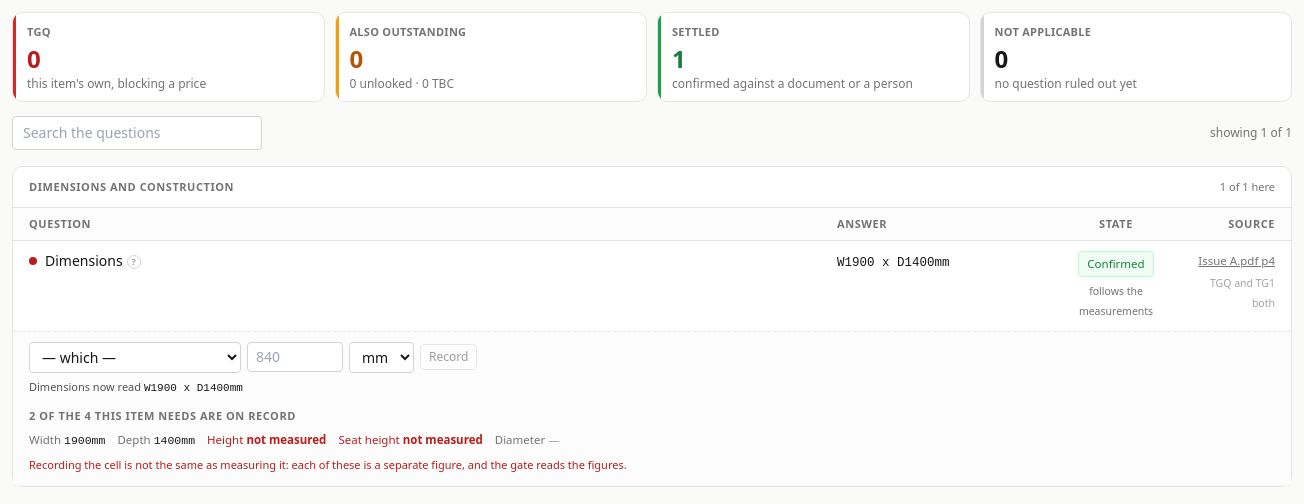
Test case: the checklist's Dimensions row › disables itself while the write is in flight, so one slot is not posted twice
This screenshot has width=1304, height=504.
Select "Height" in the dropdown named "Which dimension of Dimensions". click: (135, 357)
box: 29,342 -> 241,372
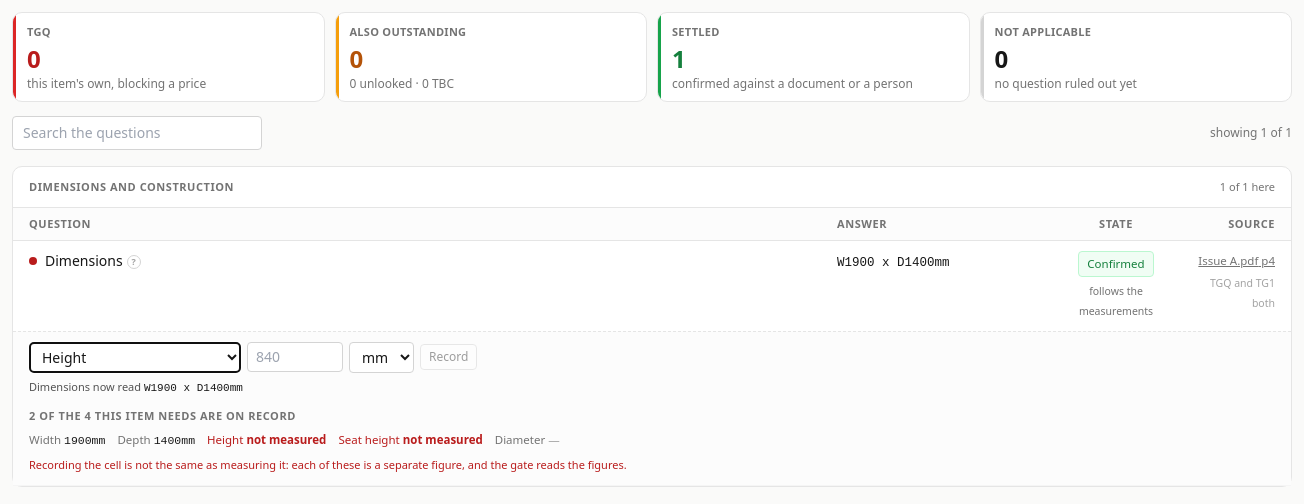
Type "760" into the field named "Figure for Dimensions". click: (295, 357)
box: 247,342 -> 343,372
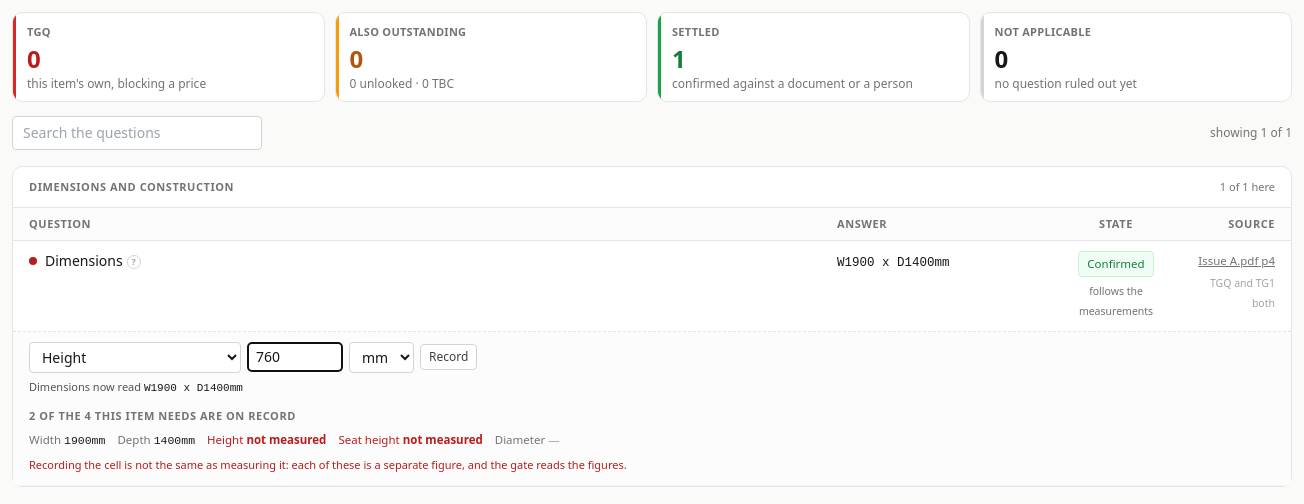
Click the button "Record". click: click(449, 357)
box: 420,344 -> 477,370
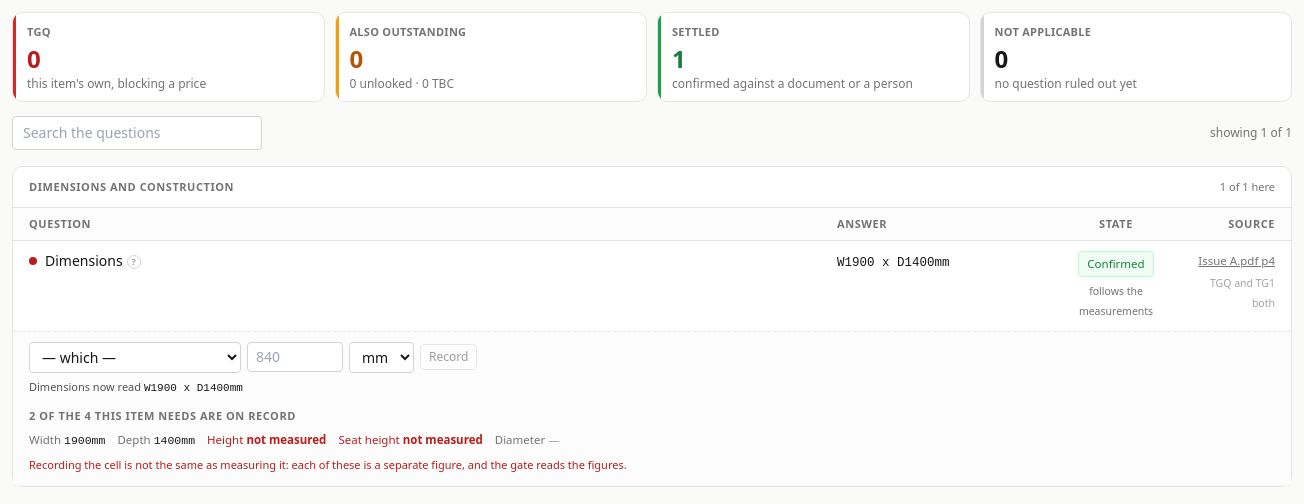
Expected: the button named "Recording…" is disabled, 420,344 -> 477,370
